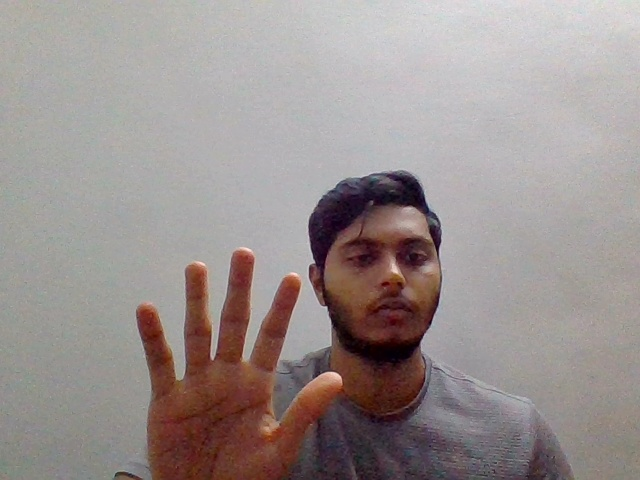Hello: (121, 242, 348, 480)
